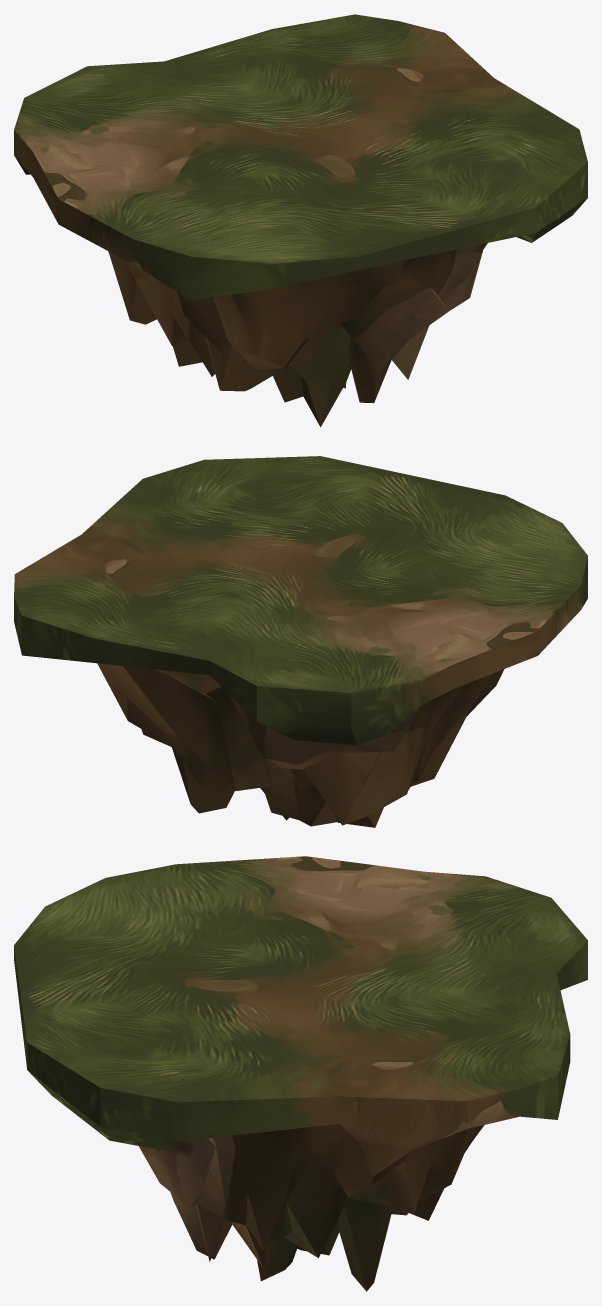
Rendered from wyspa_wielka.obj.
3 views of the same model, one above another, from view 1: azimuth 30°, elevation 25°; view 2: azimuth 150°, elevation 25°; view 3: azimuth 270°, elevation 25° (orthographic). The views are drawn at different scales.
Parts seen in each view (by area): view 1: Landscape; view 2: Landscape; view 3: Landscape.
Part boxes in pixels (x1,y1,x2,y2): Landscape: (14,14,587,427); Landscape: (14,456,587,827); Landscape: (14,856,587,1291).
Bounding box in the file's own units: 275 × 155 × 271.
Materials: 1 (1 with a texture image).
